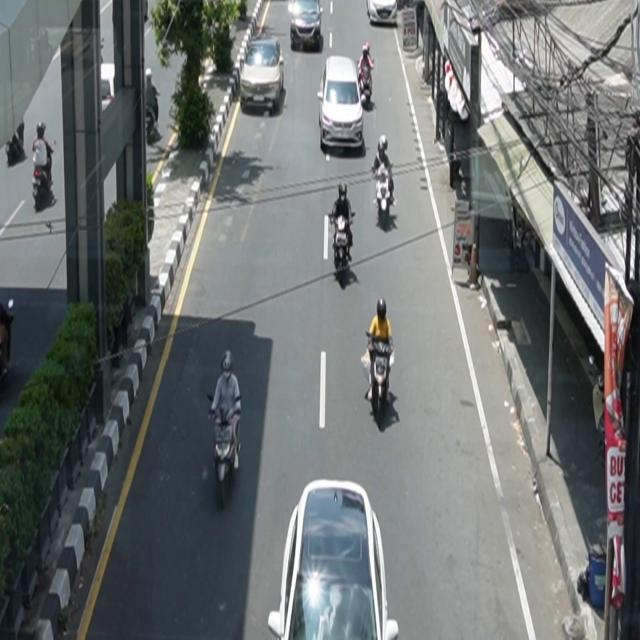car: (268, 480, 400, 640), (318, 56, 365, 152), (240, 37, 285, 115), (288, 1, 323, 48), (367, 1, 398, 26)
